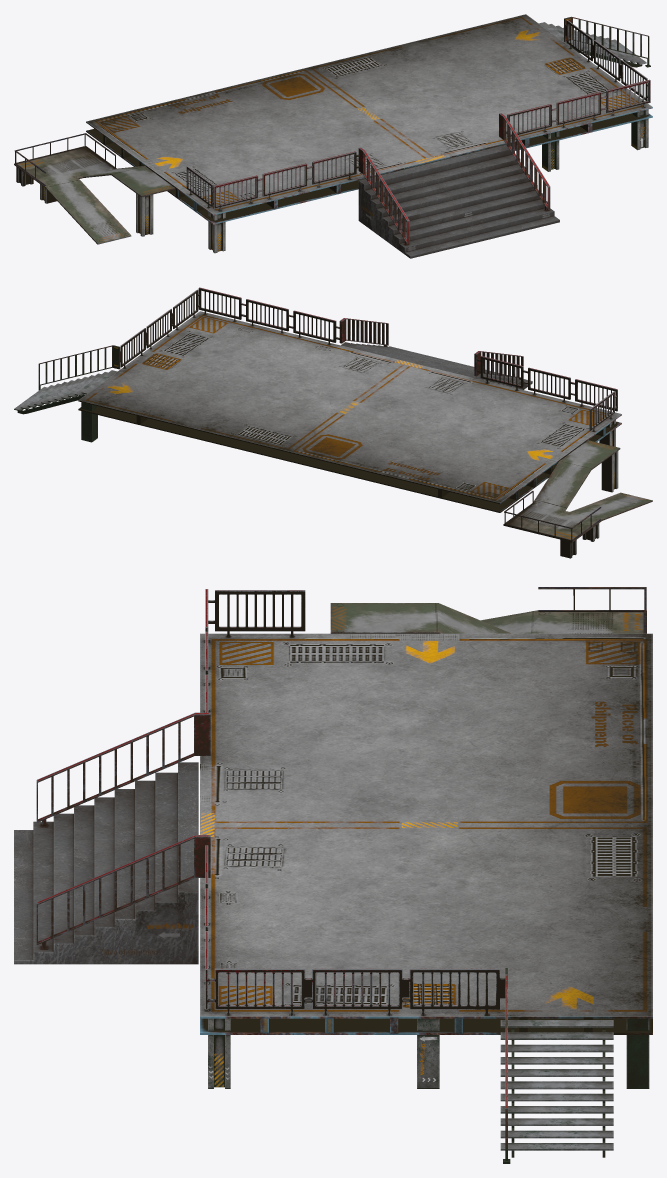
Rendered from building_workshop_parking_workshop.glb.
3 renders of one model, top to bottom at view 1: azimuth 30°, elevation 25°; view 2: azimuth 150°, elevation 25°; view 3: azimuth 270°, elevation 25°, orthographic. The views are drawn at different scales.
Visible parts, largest first — view 1: Object_2, Object_5, Object_3, Object_4, Object_6; view 2: Object_2, Object_3, Object_4, Object_5, Object_6; view 3: Object_2, Object_5, Object_6, Object_4, Object_3.
Boxes of the visible parts, <box> form: Object_2: <box>86,14,652,224</box>; Object_5: <box>358,113,559,258</box>; Object_3: <box>14,133,225,253</box>; Object_4: <box>186,20,650,211</box>; Object_6: <box>539,16,650,171</box>; Object_2: <box>78,311,621,512</box>; Object_3: <box>503,420,652,558</box>; Object_4: <box>120,287,617,431</box>; Object_5: <box>339,318,532,389</box>; Object_6: <box>14,345,120,442</box>; Object_2: <box>200,633,652,1034</box>; Object_5: <box>14,712,210,964</box>; Object_6: <box>208,968,649,1163</box>; Object_4: <box>204,589,505,1015</box>; Object_3: <box>330,587,646,633</box>.
Size of the model in its own units: 2713 by 308 by 1410.
5 materials, 5 textured.
